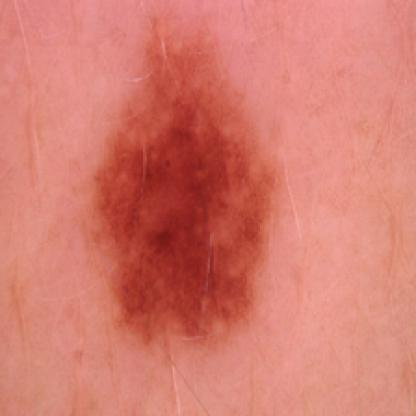benign: (95, 35, 288, 338)
